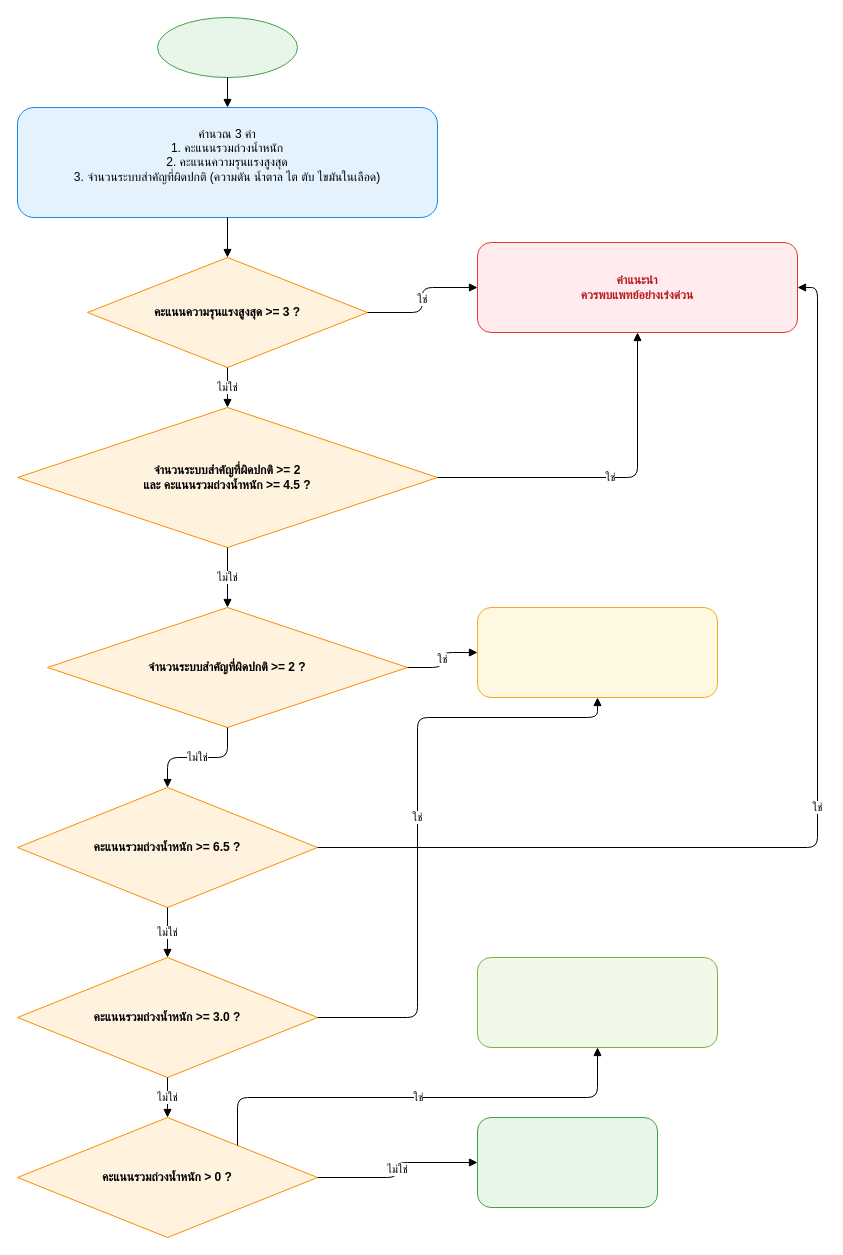
Image size: 843x1255. Some labels were removed from this diagram. The shapes that lost their labels are listed below. From the top down, each one's centre as x and y in pixels, then its label:
At (227,47): "เริ่ม".
At (597,652): "คำแนะนำ ควรพบแพทย์".
At (597,1002): "คำแนะนำ ควรปรึกษาแพทย์".
At (567,1162): "คำแนะนำ ปกติ".
